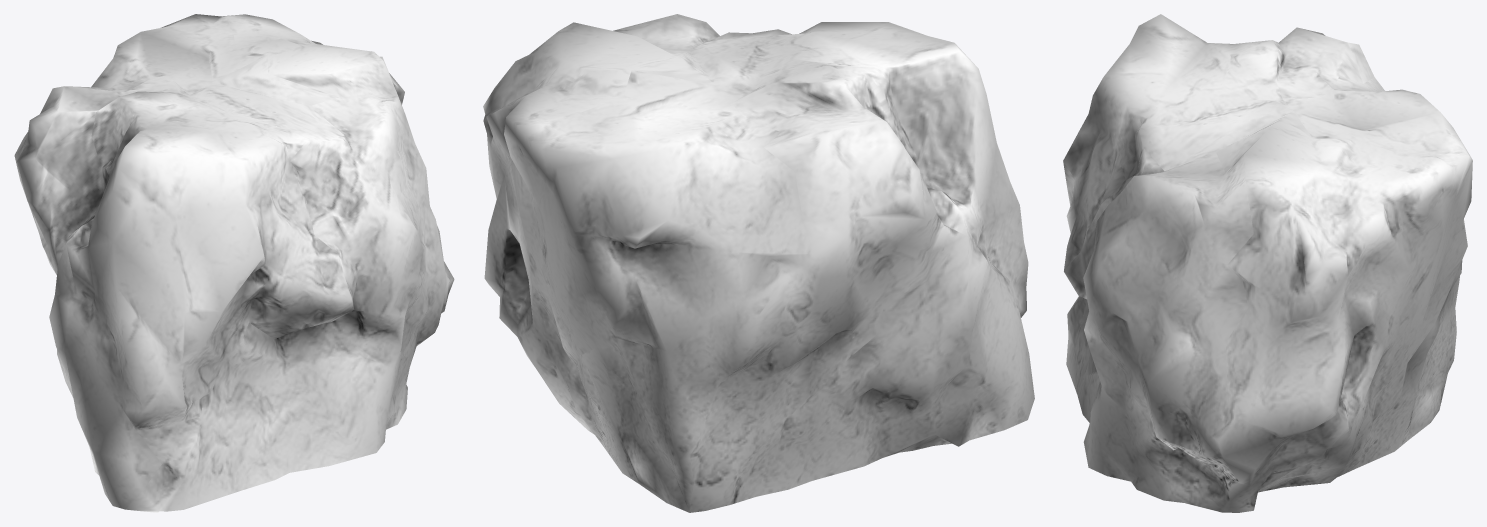
The model's file is Rock001_LOD2.fbx.
The picture shows the model from 3 angles, left to right: view 1: azimuth 30°, elevation 25°; view 2: azimuth 150°, elevation 25°; view 3: azimuth 270°, elevation 25°; orthographic projection. The views are drawn at different scales.
Parts seen in each view (by area): view 1: Rock001; view 2: Rock001; view 3: Rock001.
Boxes of the visible parts, <box> form: Rock001: <box>14,14,454,512</box>; Rock001: <box>483,14,1034,512</box>; Rock001: <box>1063,14,1472,512</box>.
Bounding box in the file's own units: 4.26 × 3.4 × 3.66.
